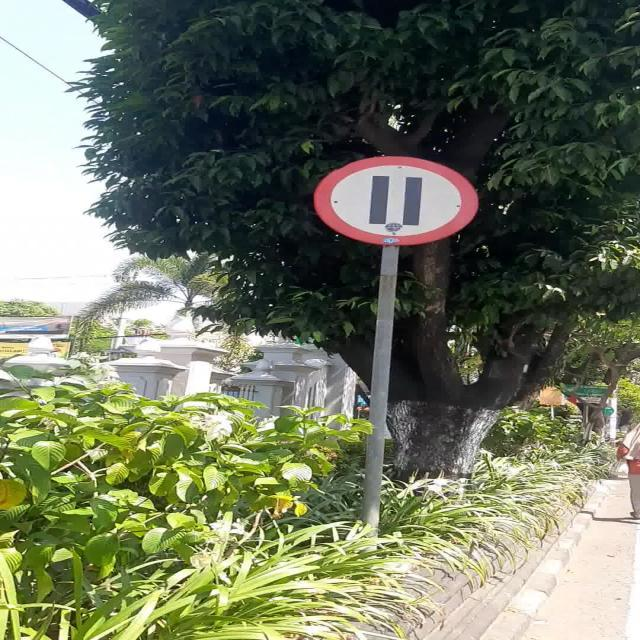Larangan Muatan - 10 ton: (313, 156, 478, 245)
